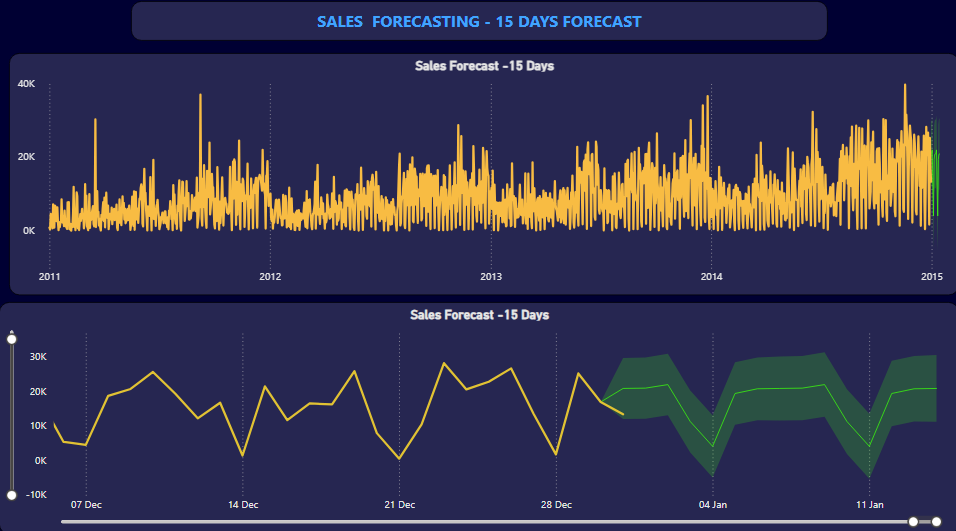

This screenshot's page, from the dashboard's own definition file:
{"tool":"powerbi","page":{"name":"Sales Forecasting","canvas":[1280,720],"ordinal":1},"visuals":[{"type":"lineChart","title":"Sales Forecast -15 Days","fields":{"Y":["Sum(Orders.Sales)"],"Category":["Orders.Order Date"]},"box":[0,410.7,1280,309.7],"z":0},{"type":"lineChart","title":"Sales Forecast -15 Days","fields":{"Y":["Sum(Orders.Sales)"],"Category":["Orders.Order Date"]},"box":[13.3,78.4,1266.7,323],"z":1000},{"type":"textbox","box":[175.5,9,929,52.9],"z":2000}]}

Visuals, with their boxes in screenshot pixels (x1, y1, x2, y2), scaled from the page's 1280x720 canvas onto the 956x531 screenshot:
"Sales Forecast -15 Days" lineChart: [left=0, top=303, right=955, bottom=530]
"Sales Forecast -15 Days" lineChart: [left=10, top=58, right=955, bottom=296]
textbox: [left=131, top=7, right=825, bottom=46]
